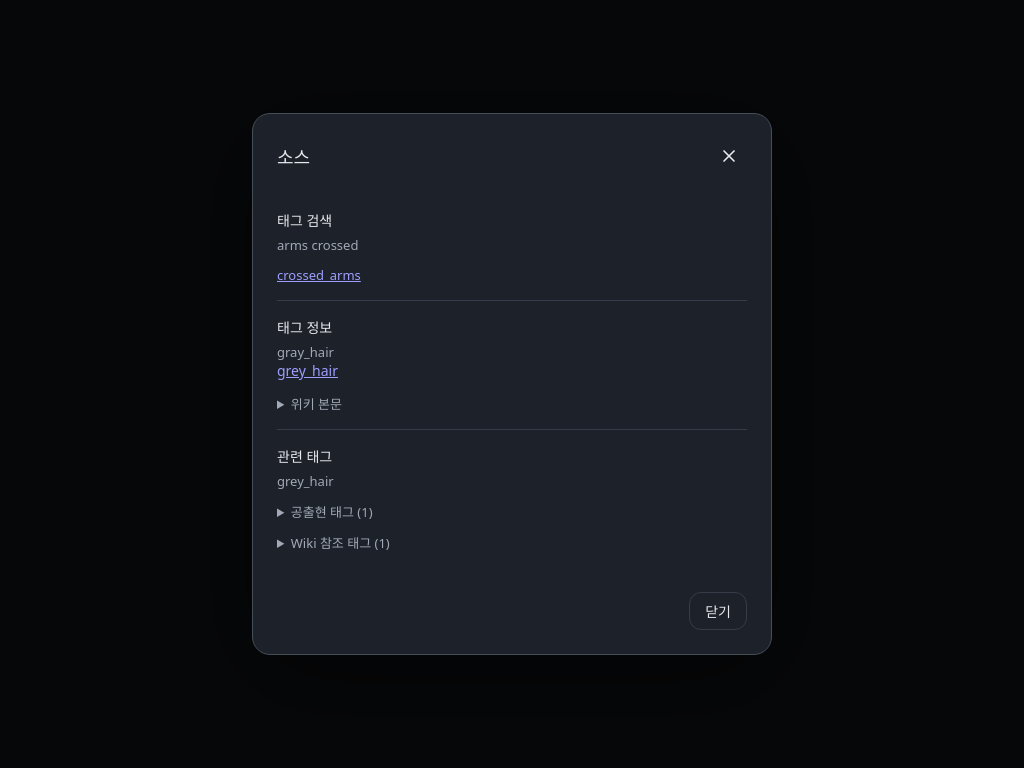
Test case: shows readable lookup inputs and reference results instead of raw tool payloads
expect the text "arms crossed" is shown: met, box [277,236,358,254]
expect the text "gray_hair" is shown: met, box [277,343,334,361]
Click the heading "공출현 태그 (1)". click: (332, 512)
box: [291,503,373,521]
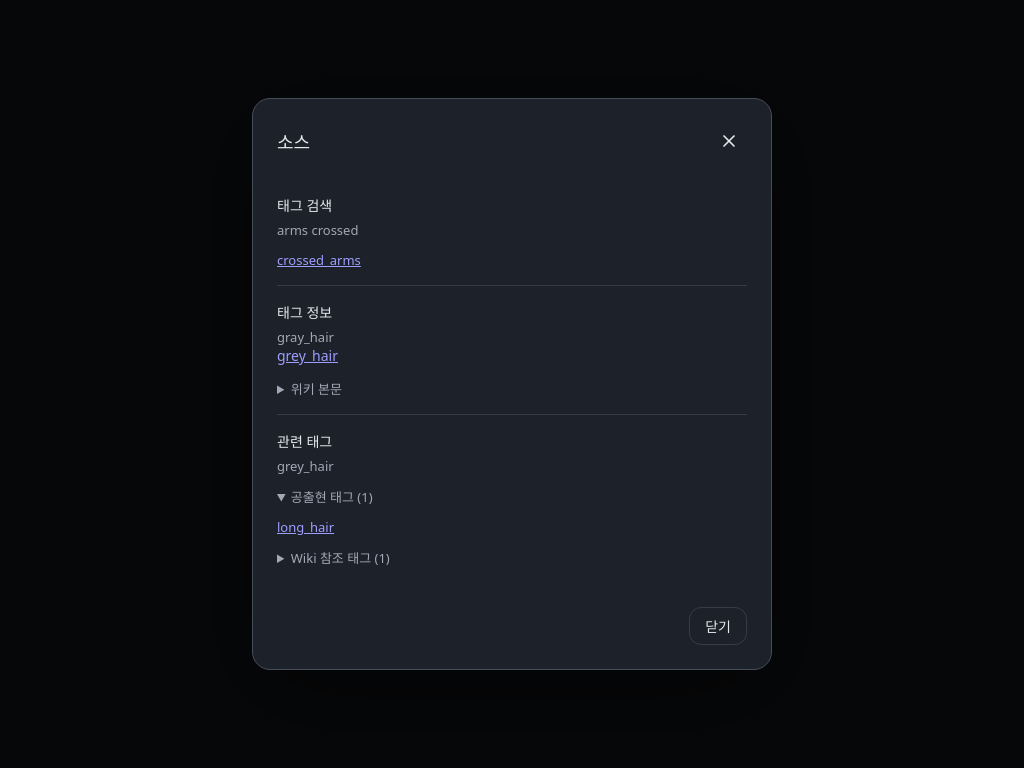
expect the link "long_hair" is shown: met, box [277,518,334,536]
Click the heading "Wiki 참조 태그 (1)". click: (340, 558)
box: [291,549,390,567]
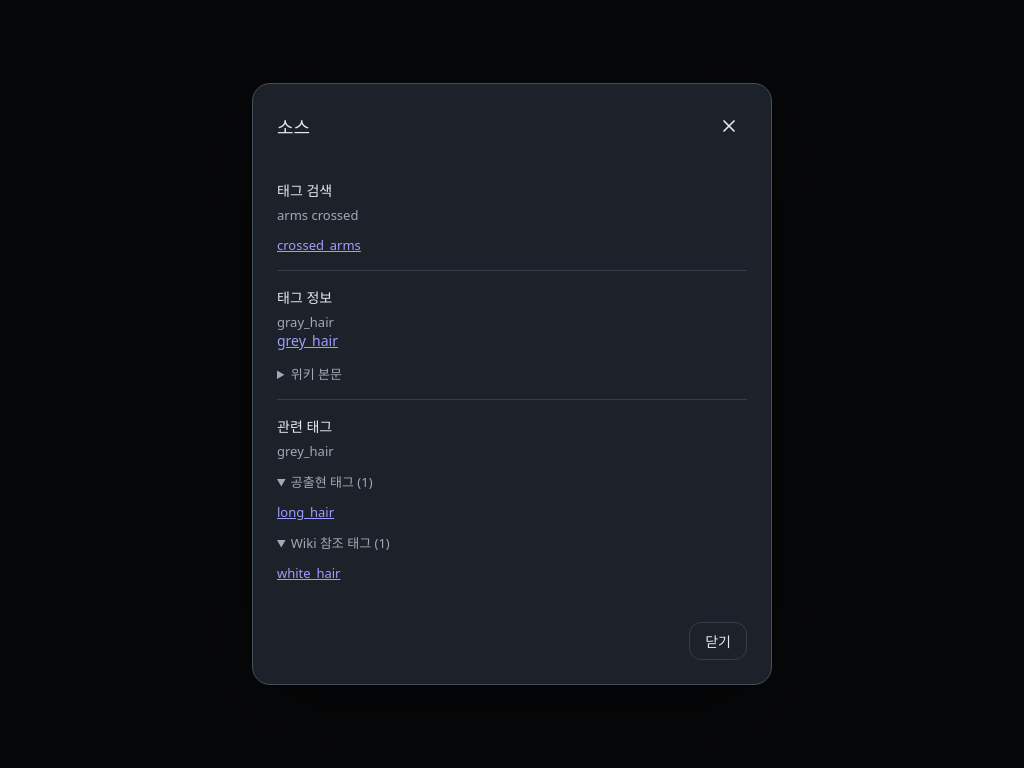
expect the link "white_hair" is shown: met, box [277,564,340,582]
